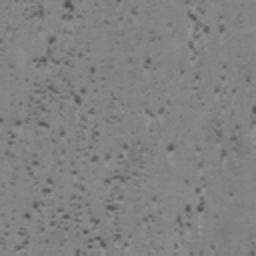Oxide scale of temperature system: (4, 0, 229, 251), (210, 74, 252, 176), (143, 11, 210, 69)
